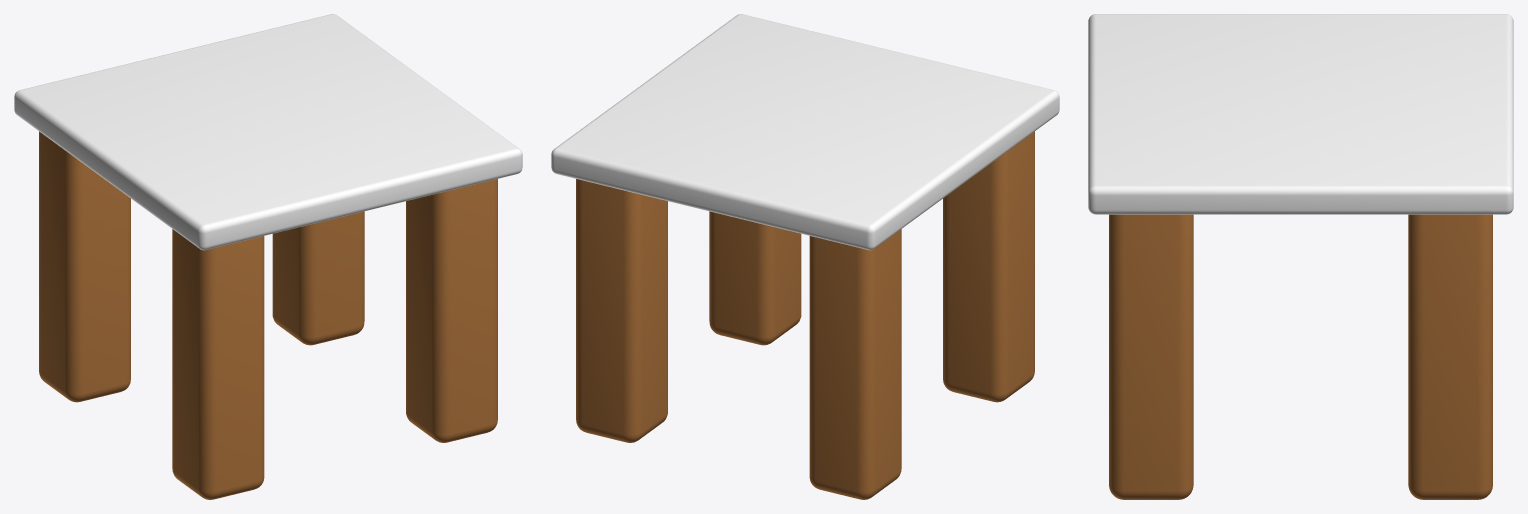
Rendered from simple_footstool.obj.
3 views of the same model, side by side, from view 1: azimuth 30°, elevation 25°; view 2: azimuth 150°, elevation 25°; view 3: azimuth 270°, elevation 25° (orthographic). The views are drawn at different scales.
Parts seen in each view (by area): view 1: simple_footstool; view 2: simple_footstool; view 3: simple_footstool.
Part boxes in pixels (left/top/right/bottom): simple_footstool: left=14, top=14, right=522, bottom=499; simple_footstool: left=551, top=14, right=1059, bottom=499; simple_footstool: left=1088, top=14, right=1513, bottom=499.
Bounding box in the file's own units: 0.5147 × 0.4378 × 0.522.
